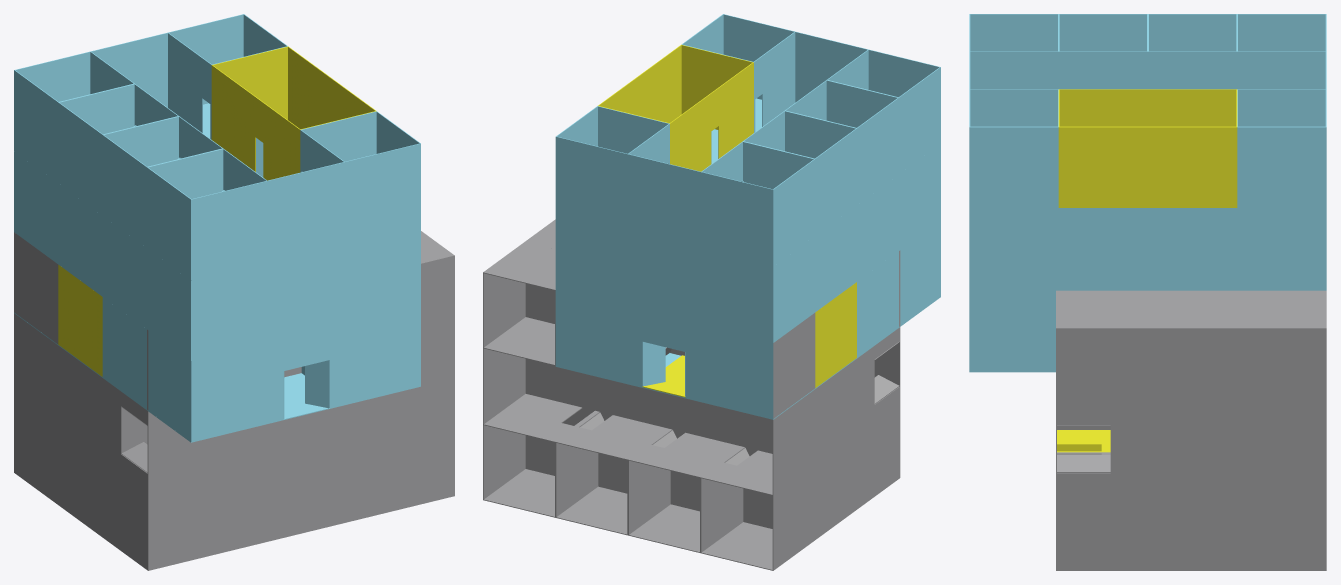
Rendered from 第十一组.glb.
3 views of the same model, side by side, from view 1: azimuth 30°, elevation 25°; view 2: azimuth 150°, elevation 25°; view 3: azimuth 270°, elevation 25° (orthographic). The views are drawn at different scales.
Bounding box in the file's own units: 0.02 × 0.0251 × 0.02.
